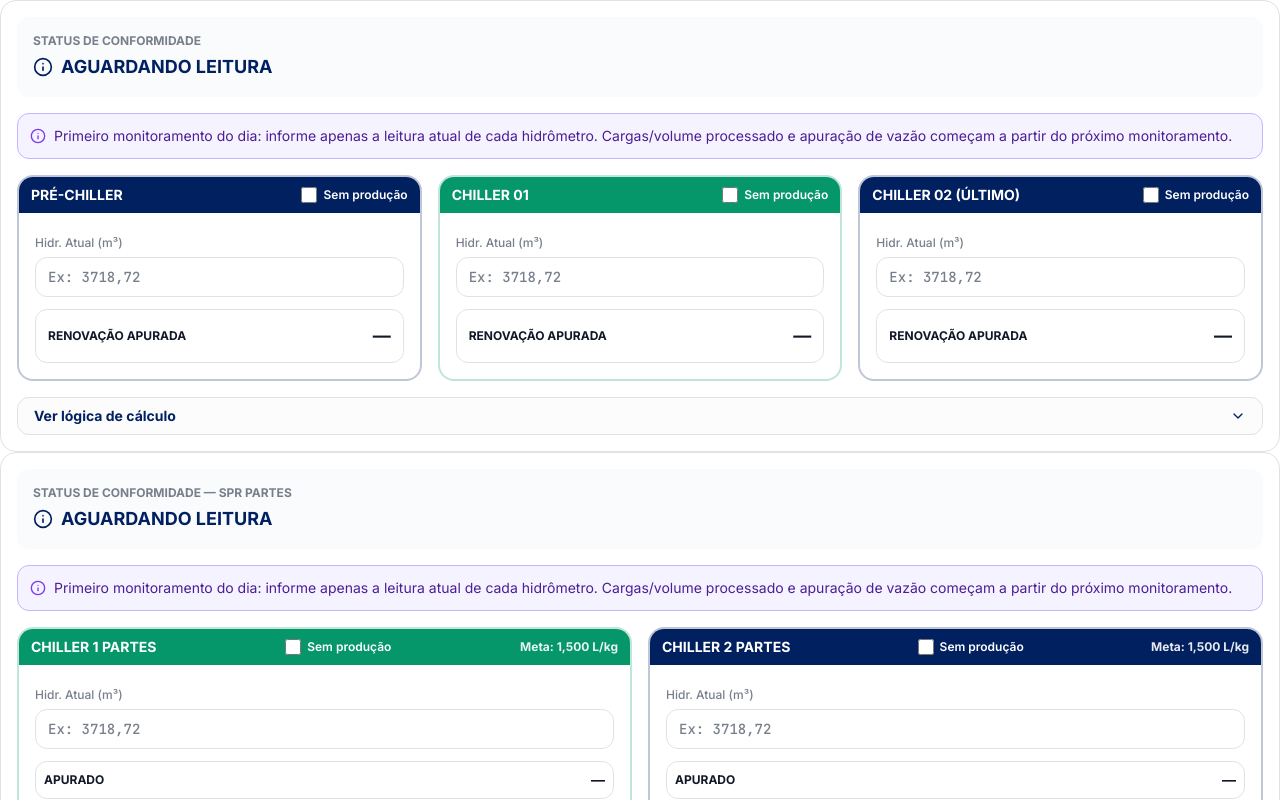
1º monitoramento do dia (nenhum hidrômetro herdou leitura) › não calcula nem bloqueia: com leitura atual o resultado é '—' e segue CONFORME
Type "120,5" into the field with placeholder "Ex: 3718,72" below "PRÉ-CHILLER".
click(219, 277); type("120,5")  # box [35,257,404,297]
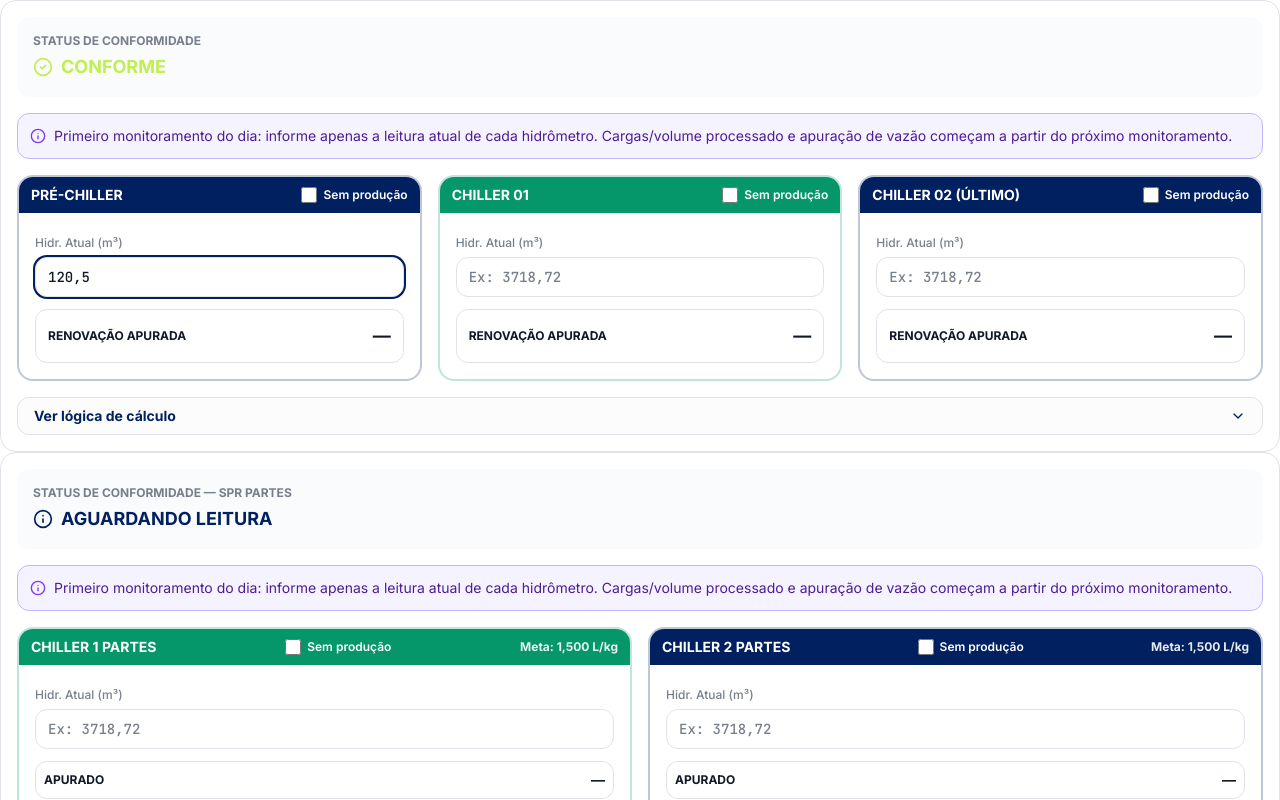
expect the text "—" below "PRÉ-CHILLER" is shown: met, box [373,325,391,346]
expect the text "CONFORME" is shown: met, box [33,56,166,77]
